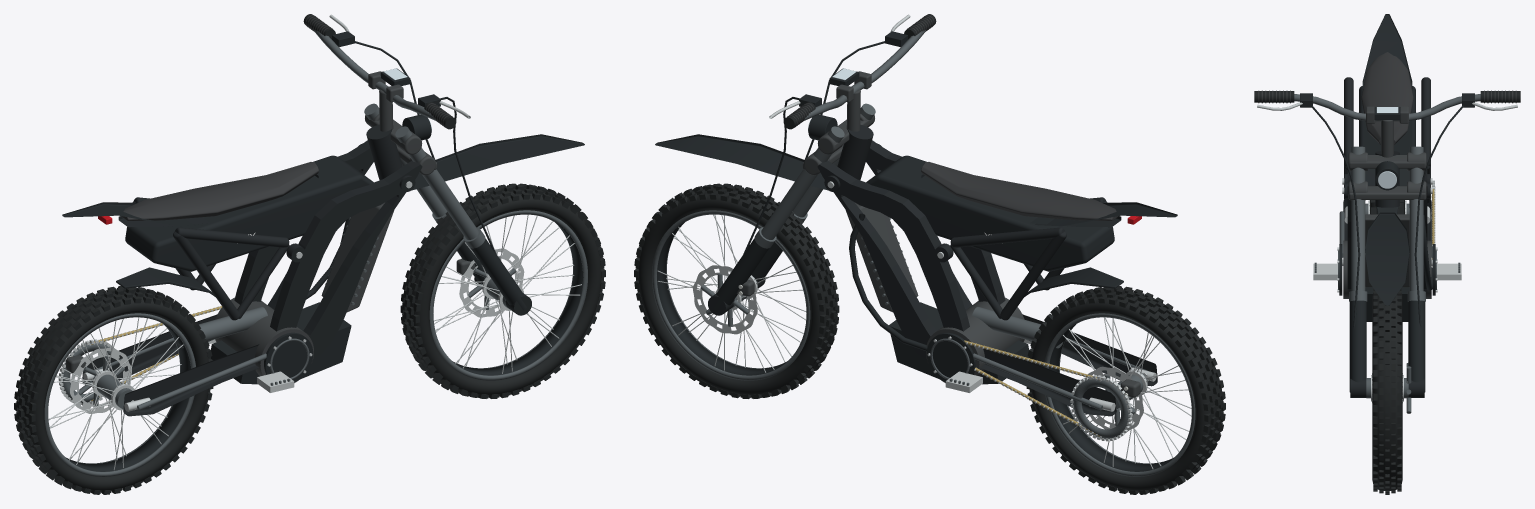
The model's file is talaria-sting-mx3.glb.
3 renders of one model, left to right at view 1: azimuth 30°, elevation 25°; view 2: azimuth 150°, elevation 25°; view 3: azimuth 270°, elevation 25°, orthographic. The views are drawn at different scales.
Visible parts, largest first — view 1: FrontWheel | Offroad tyre rubber, Chassis | Reference dark graphite frame, RearWheel | Offroad tyre rubber, Removable model battery enclosure, RearSuspension | Reference dark graphite frame, Bodywork | Satin black polymer, Contoured narrow saddle, RearWheel | Machined satin aluminium, MotorMount | Satin black polymer, FrontWheel | Machined satin aluminium, RearWheel | Anodized gunmetal, FrontWheel | Anodized gunmetal (+13 smaller); view 2: FrontWheel | Offroad tyre rubber, Chassis | Reference dark graphite frame, RearWheel | Offroad tyre rubber, Removable model battery enclosure, RearSuspension | Reference dark graphite frame, Bodywork | Satin black polymer, Contoured narrow saddle, MotorMount | Satin black polymer, FrontWheel | Machined satin aluminium, FrontWheel | Anodized gunmetal, RearWheel | Machined satin aluminium, RearWheel | Anodized gunmetal (+16 smaller); view 3: FrontWheel | Offroad tyre rubber, Bodywork | Satin black polymer, Fork | Anodized gunmetal, Fork | Satin black polymer, Contoured narrow saddle, Fork | Cast graphite aluminium, Cockpit | Satin black polymer, RearSuspension | Reference dark graphite frame, Removable model battery enclosure, MotorMount | Satin black polymer, Chassis | Reference dark graphite frame, Swept riser handlebar (+11 smaller).
Boxes of the visible parts, <box> form: FrontWheel | Offroad tyre rubber: <box>400,183,605,398</box>; Chassis | Reference dark graphite frame: <box>234,124,422,359</box>; RearWheel | Offroad tyre rubber: <box>14,286,213,494</box>; Removable model battery enclosure: <box>125,155,373,271</box>; RearSuspension | Reference dark graphite frame: <box>82,197,289,416</box>; Bodywork | Satin black polymer: <box>62,134,584,296</box>; Contoured narrow saddle: <box>121,162,318,220</box>; RearWheel | Machined satin aluminium: <box>48,317,183,470</box>; MotorMount | Satin black polymer: <box>211,218,351,384</box>; FrontWheel | Machined satin aluminium: <box>434,214,581,373</box>; RearWheel | Anodized gunmetal: <box>44,313,195,476</box>; FrontWheel | Anodized gunmetal: <box>429,210,587,380</box>; FrontWheel | Offroad tyre rubber: <box>634,183,839,398</box>; Chassis | Reference dark graphite frame: <box>817,124,1005,359</box>; RearWheel | Offroad tyre rubber: <box>1026,286,1225,494</box>; Removable model battery enclosure: <box>866,155,1114,271</box>; RearSuspension | Reference dark graphite frame: <box>950,197,1157,416</box>; Bodywork | Satin black polymer: <box>655,134,1177,296</box>; Contoured narrow saddle: <box>921,162,1118,220</box>; MotorMount | Satin black polymer: <box>849,213,1028,384</box>; FrontWheel | Machined satin aluminium: <box>657,214,806,372</box>; FrontWheel | Anodized gunmetal: <box>652,210,810,380</box>; RearWheel | Machined satin aluminium: <box>1063,317,1191,469</box>; RearWheel | Anodized gunmetal: <box>1044,313,1195,476</box>; FrontWheel | Offroad tyre rubber: <box>1372,288,1402,494</box>; Bodywork | Satin black polymer: <box>1362,14,1412,305</box>; Fork | Anodized gunmetal: <box>1349,146,1425,301</box>; Fork | Satin black polymer: <box>1349,300,1425,392</box>; Contoured narrow saddle: <box>1361,52,1413,144</box>; Fork | Cast graphite aluminium: <box>1348,152,1426,200</box>; Cockpit | Satin black polymer: <box>1300,93,1474,328</box>; RearSuspension | Reference dark graphite frame: <box>1343,77,1431,240</box>; Removable model battery enclosure: <box>1359,86,1415,185</box>; MotorMount | Satin black polymer: <box>1339,215,1435,321</box>; Chassis | Reference dark graphite frame: <box>1344,151,1430,293</box>; Swept riser handlebar: <box>1294,94,1480,121</box>.
Bounding box in the file's own units: 1.79 × 1.06 × 0.756.
